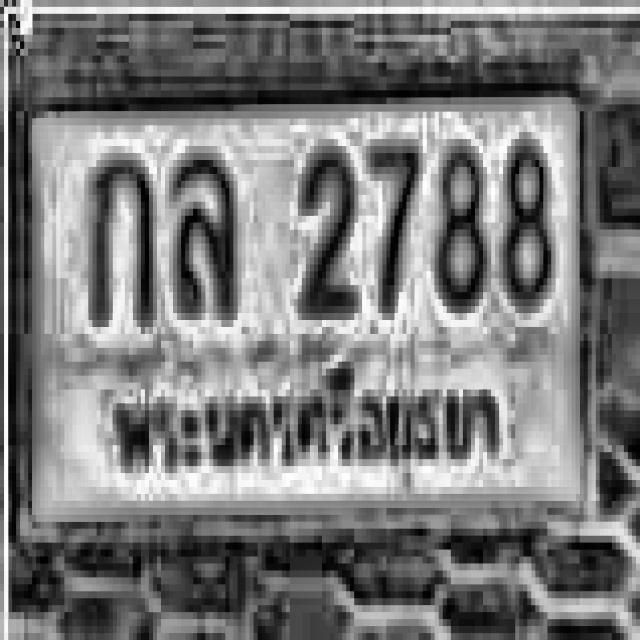license-plate: (9, 73, 596, 541)
